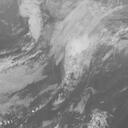cyclone: (51, 34, 109, 98)
